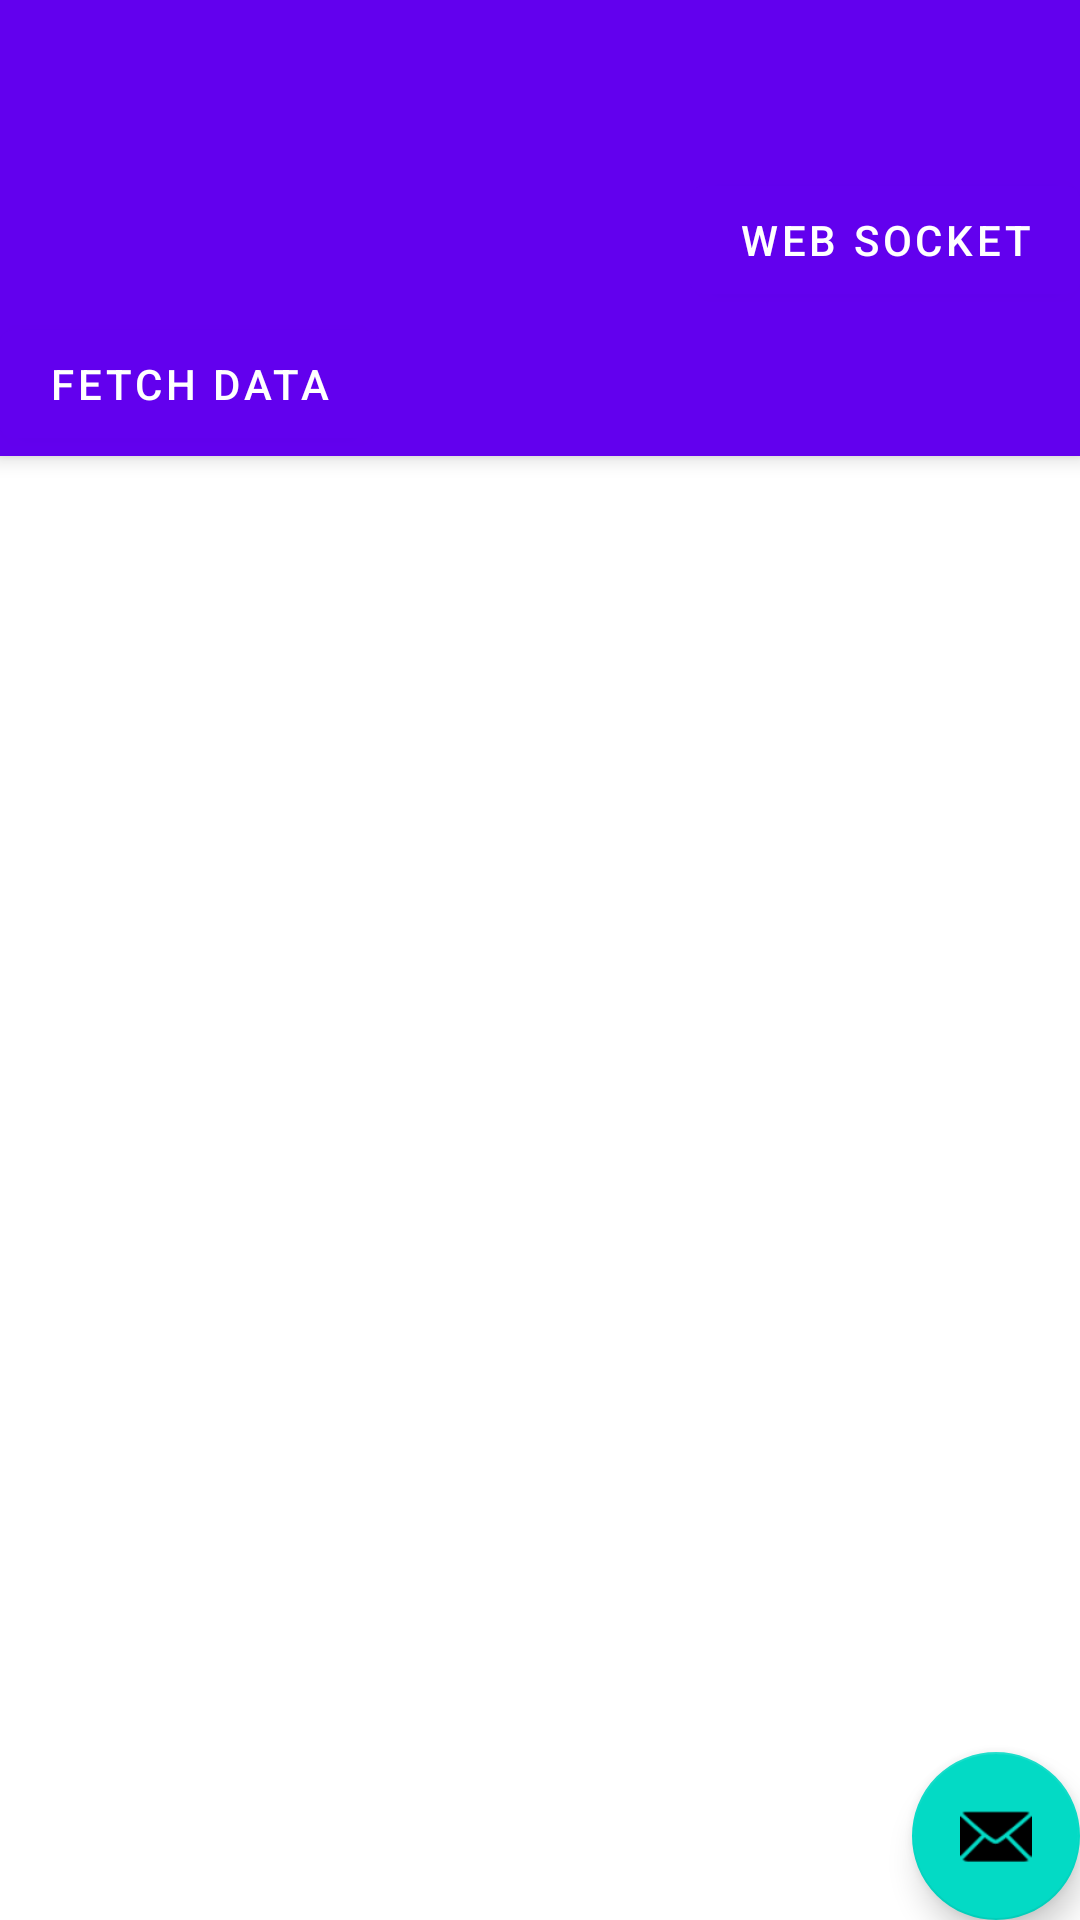

Named icons in this screenshot (1080×1920) and their bounding boxes, bbox=(x1, y1, x2, y2):
email: bbox=(912, 1752, 1080, 1920)
